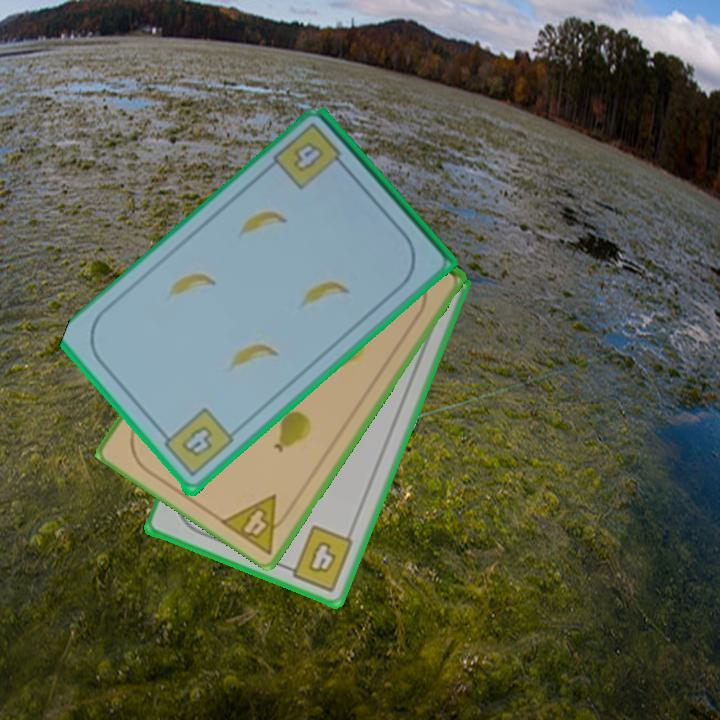4b: (156, 405, 236, 481), (270, 119, 352, 193), (279, 521, 357, 595)
4p: (217, 491, 298, 557)
